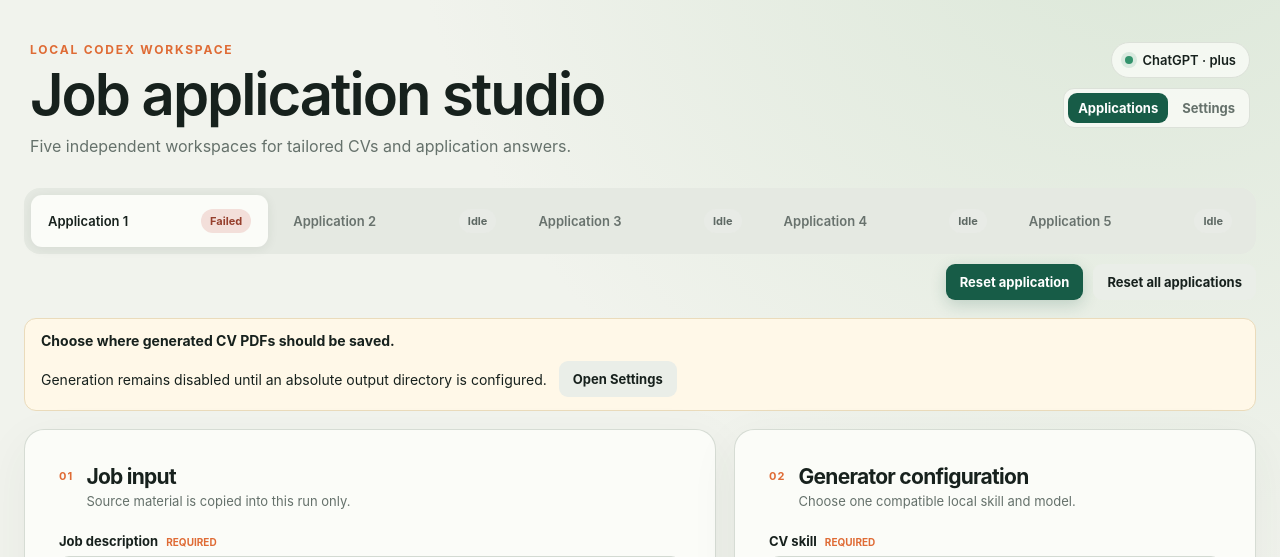
Test: resets a terminal tab to five blank questions while preserving defaults
Click the button "Reset application": (1015,282) top-left (946, 264), bottom-right (1083, 300)
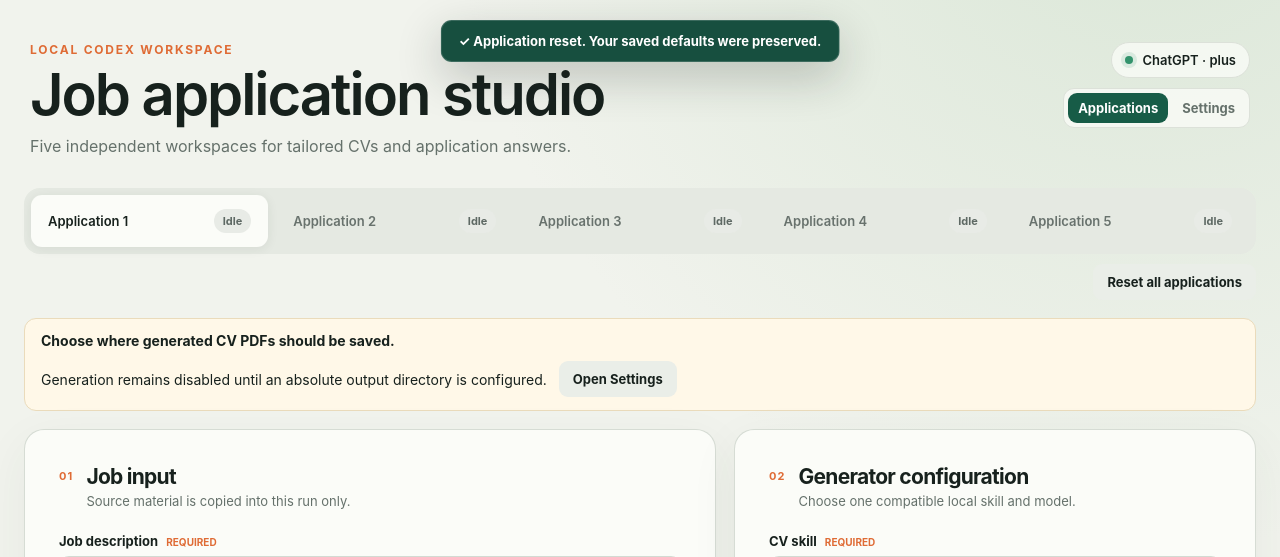
Now the text "✓ Application reset. Your saved defaults were preserved." is shown, box top-left (441, 20), bottom-right (839, 62)
